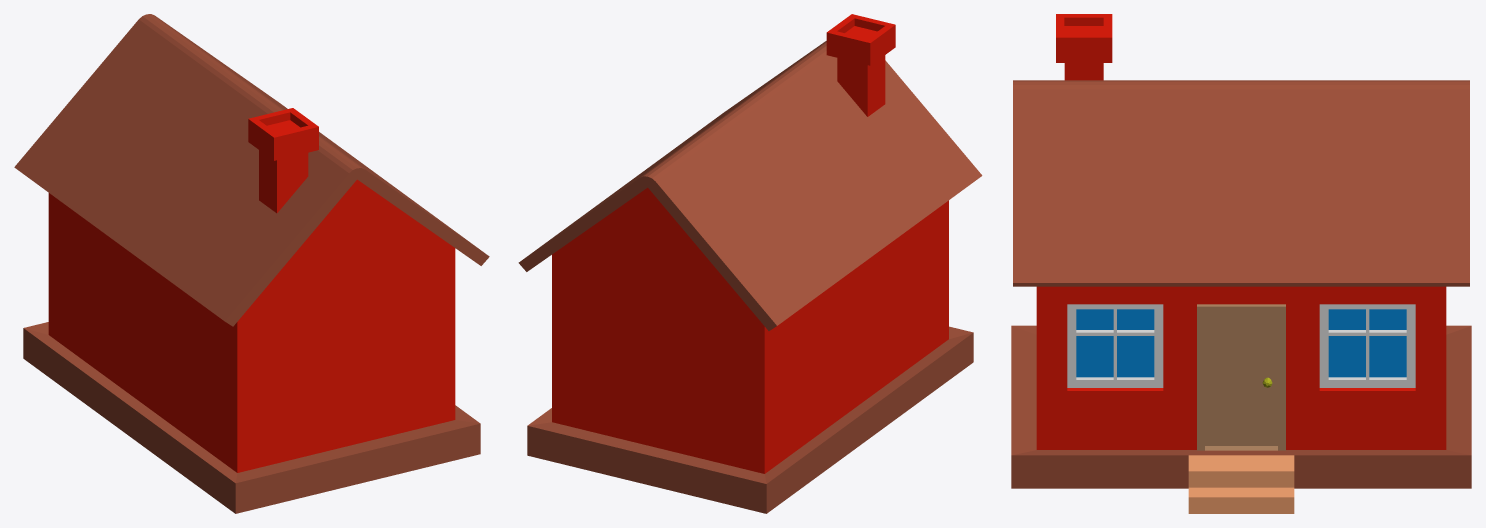
The model's file is red-1.gltf.
The picture shows the model from 3 angles, left to right: view 1: azimuth 30°, elevation 25°; view 2: azimuth 150°, elevation 25°; view 3: azimuth 270°, elevation 25°; orthographic projection. The views are drawn at different scales.
Parts seen in each view (by area): view 1: Walls, Roof, Step, Chimney top, Chimney; view 2: Walls, Roof, Step, Chimney top, Chimney; view 3: Roof, Walls, Step, Door, Window glasses, Window frames, Stairs, Chimney top, Chimney.
Part boxes in pixels (left/top/right/bottom): Walls: left=48, top=179, right=455, bottom=472; Roof: left=14, top=14, right=489, bottom=326; Step: left=23, top=322, right=480, bottom=513; Chimney top: left=248, top=108, right=318, bottom=160; Chimney: left=259, top=150, right=308, bottom=213; Walls: left=552, top=187, right=948, bottom=473; Roof: left=518, top=41, right=982, bottom=330; Step: left=527, top=326, right=973, bottom=513; Chimney top: left=826, top=14, right=895, bottom=65; Chimney: left=837, top=55, right=885, bottom=116; Roof: left=1013, top=80, right=1469, bottom=286; Walls: left=1036, top=286, right=1446, bottom=449; Step: left=1011, top=325, right=1471, bottom=488; Door: left=1197, top=304, right=1285, bottom=450; Window glasses: left=1076, top=309, right=1406, bottom=377; Window frames: left=1067, top=304, right=1415, bottom=387; Stairs: left=1188, top=455, right=1294, bottom=513; Chimney top: left=1056, top=14, right=1112, bottom=62; Chimney: left=1064, top=63, right=1103, bottom=80.
Bounding box in the file's own units: 5.56 × 6.08 × 6.75.
